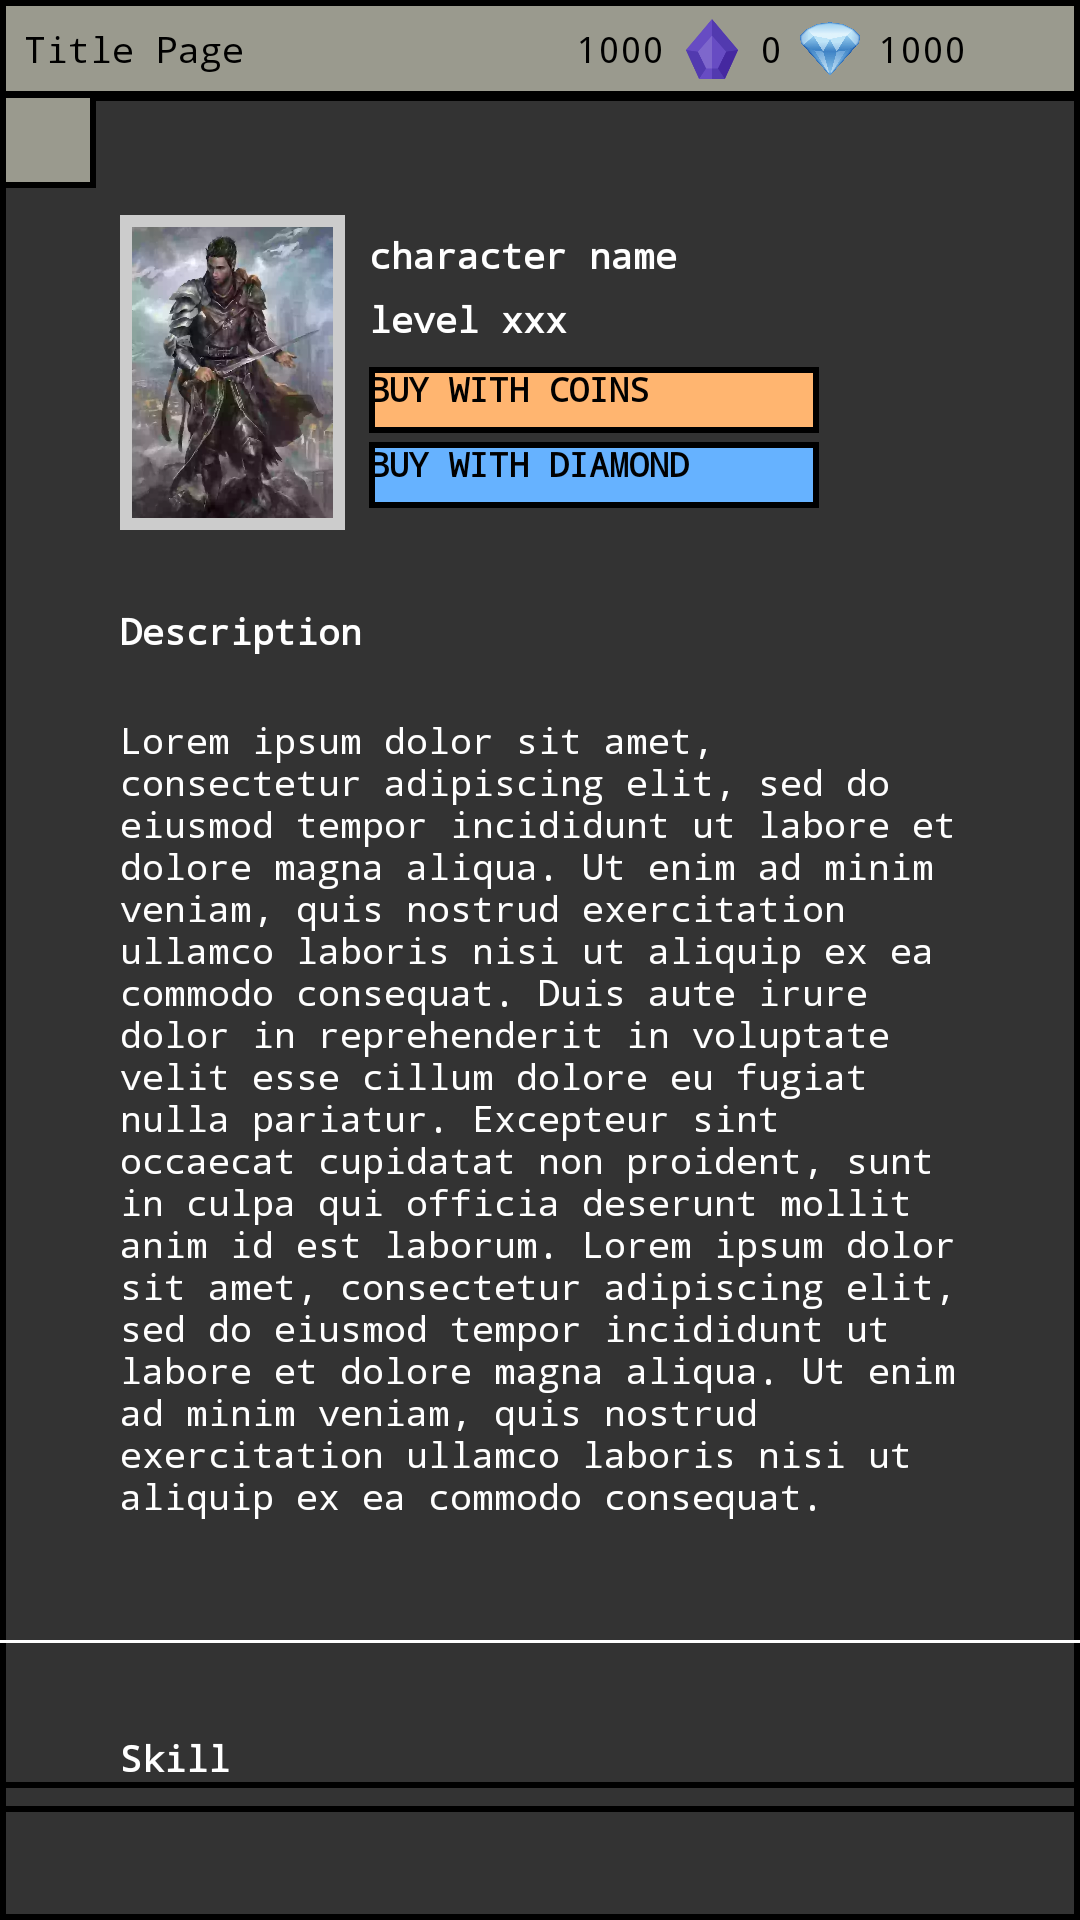

Icons on this 1080px x 1920px Android screen, each with the point to tap as (x,y):
diamond: (830,48)
role warrior: (232,372)
